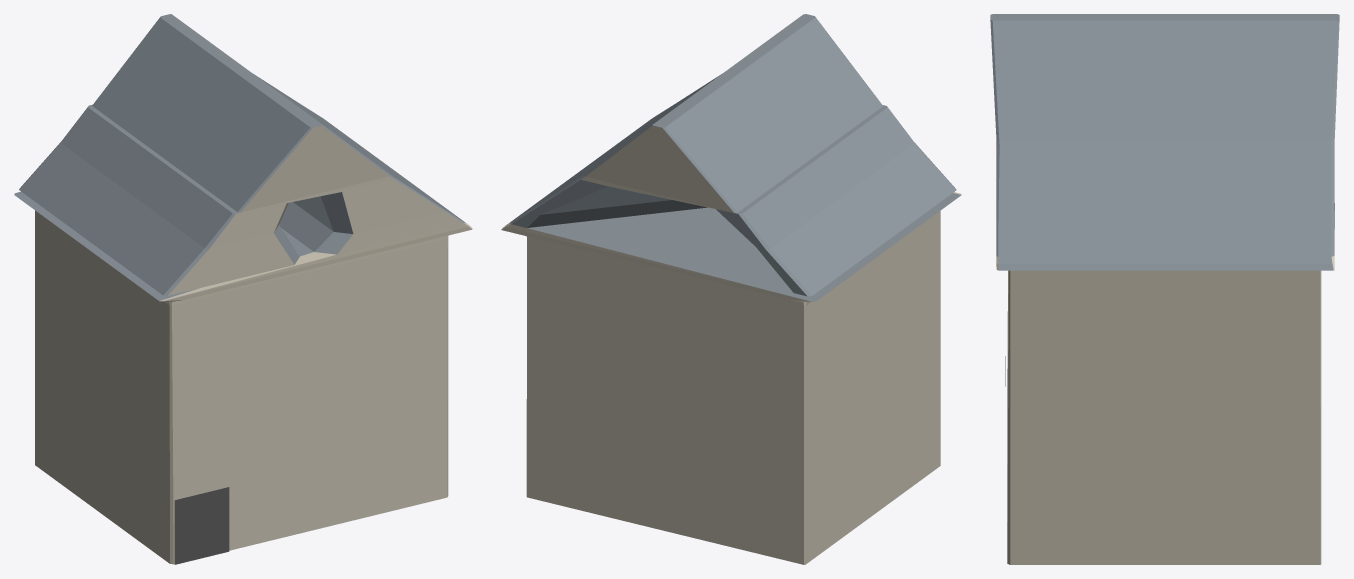
The model's file is loin.glb.
3 views of the same model, side by side, from view 1: azimuth 30°, elevation 25°; view 2: azimuth 150°, elevation 25°; view 3: azimuth 270°, elevation 25° (orthographic). The views are drawn at different scales.
Parts seen in each view (by area): view 1: loin; view 2: loin; view 3: loin.
Part boxes in pixels (x1,y1,x2,y2): loin: (14, 14, 472, 564); loin: (501, 14, 961, 564); loin: (990, 14, 1339, 564).
Bounding box in the file's own units: 0.7628 × 0.9516 × 0.6413.
